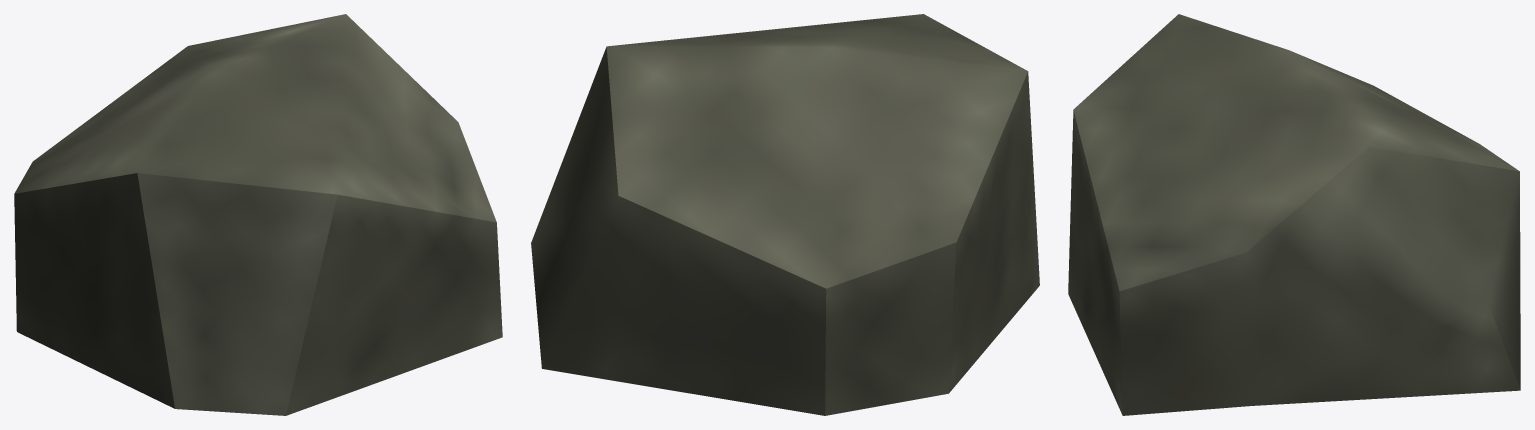
The model's file is Rock_14C.fbx.
3 renders of one model, left to right at view 1: azimuth 30°, elevation 25°; view 2: azimuth 150°, elevation 25°; view 3: azimuth 270°, elevation 25°, orthographic. The views are drawn at different scales.
Parts seen in each view (by area): view 1: Rock_14C; view 2: Rock_14C; view 3: Rock_14C.
Part boxes in pixels (x1,y1,x2,y2): Rock_14C: [14, 14, 502, 415]; Rock_14C: [531, 14, 1039, 415]; Rock_14C: [1068, 14, 1520, 415].
Bounding box in the file's own units: 72.63 × 46.43 × 72.46.
1 material, 1 textured.
